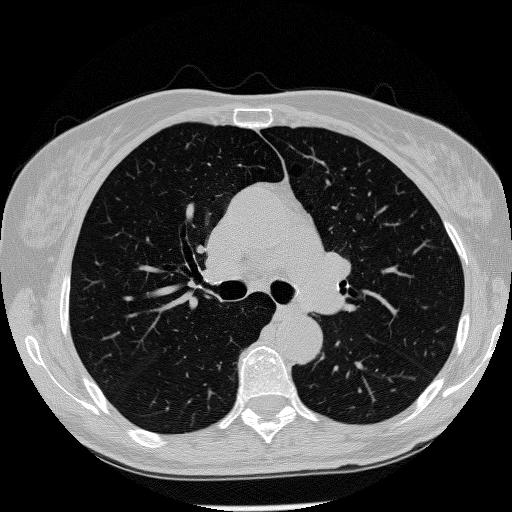nodule: (353, 211, 365, 223)
